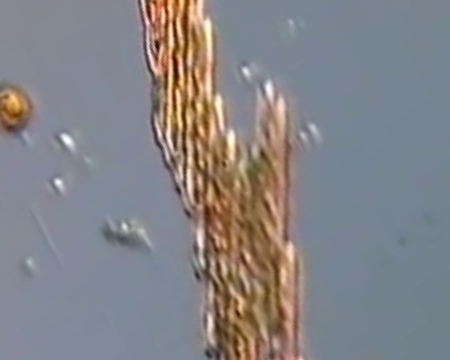fil: (259, 79, 276, 360), (277, 91, 290, 360), (211, 91, 223, 360), (183, 1, 196, 224), (169, 1, 184, 194), (238, 143, 250, 360), (224, 130, 235, 360), (286, 242, 306, 360), (198, 18, 207, 277), (138, 2, 159, 73), (152, 1, 163, 136)
